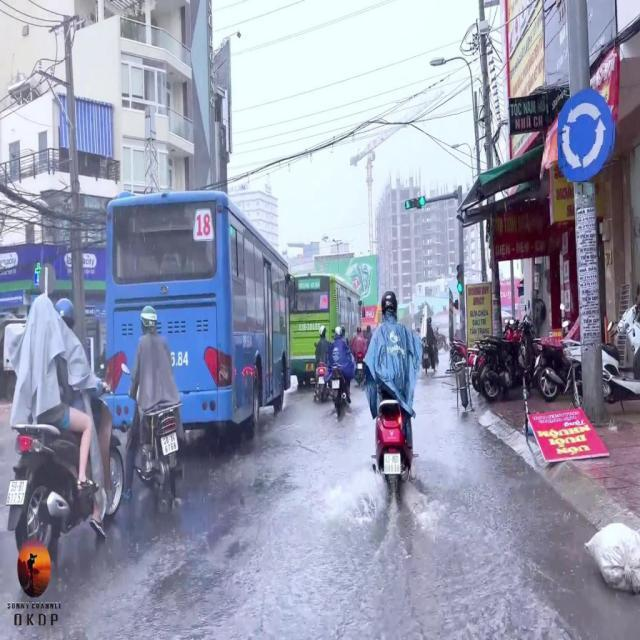303-noi-giao-nhau-chay-theo-vong-xuyen: (556, 88, 614, 180)
